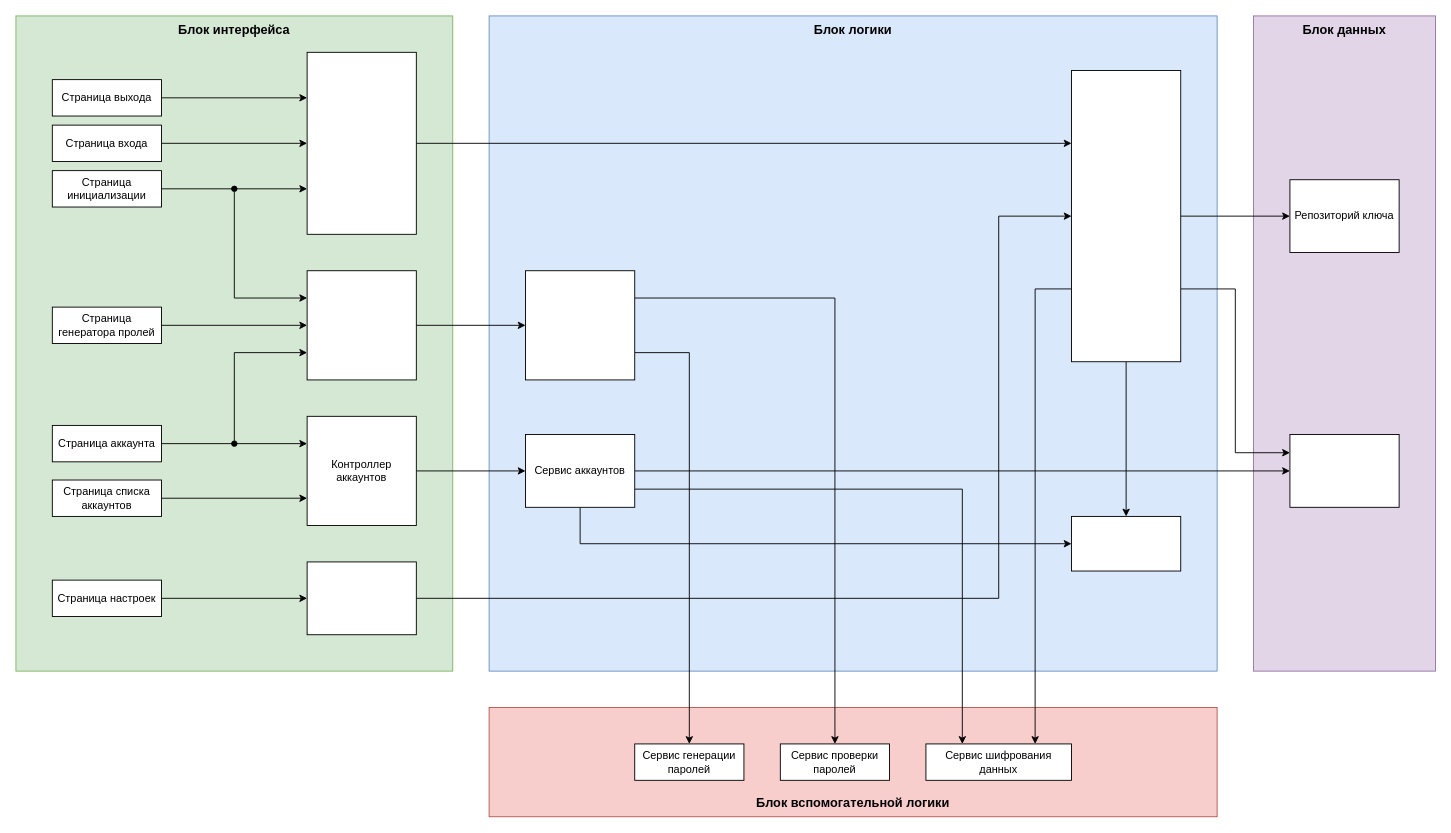
The diagram is 1451 pixels wide and 833 high, and some of its shapes have lost their labels. The box of each missing label's shape, as (x1, y1, x2, y2) in pixels:
Контроллер аутентификации: (306, 51, 416, 234)
Контроллер настроек: (306, 561, 416, 635)
Контроллер паролей: (306, 270, 416, 380)
Репозиторий аккаунтов: (1289, 434, 1399, 507)
Сервис ключа: (1071, 70, 1181, 362)
Сервис паролей: (525, 270, 635, 380)
Хранилище ключа: (1071, 516, 1181, 571)
